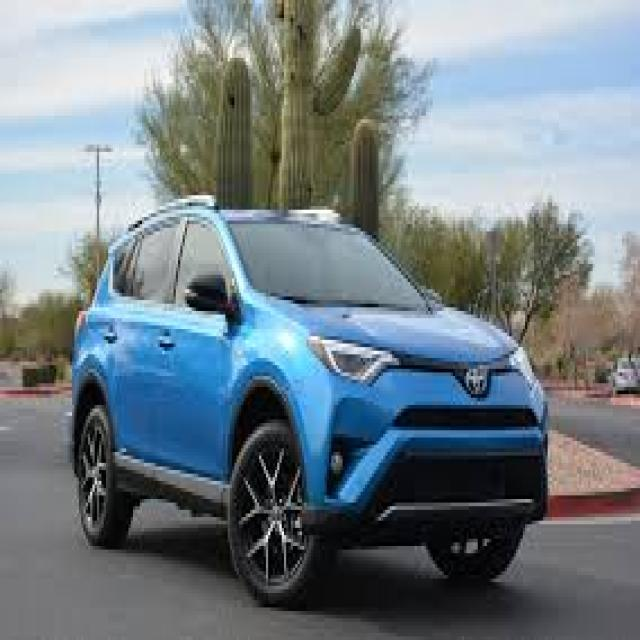light_vehicle: (70, 197, 550, 609)
